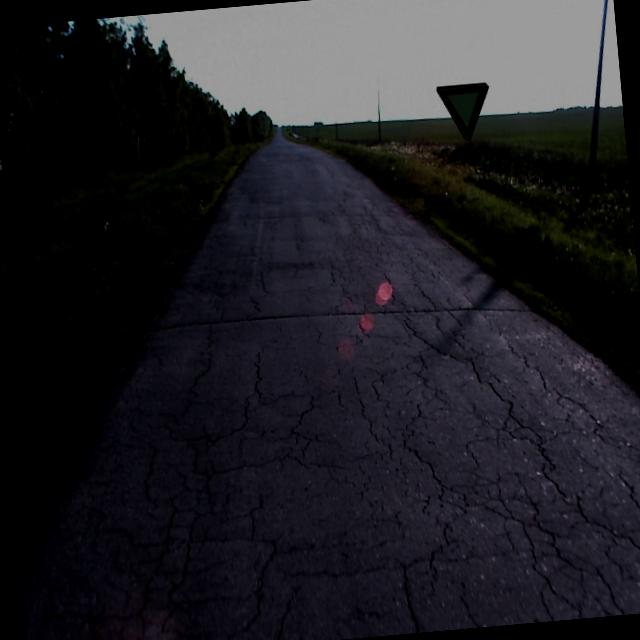road: (19, 142, 640, 640)
